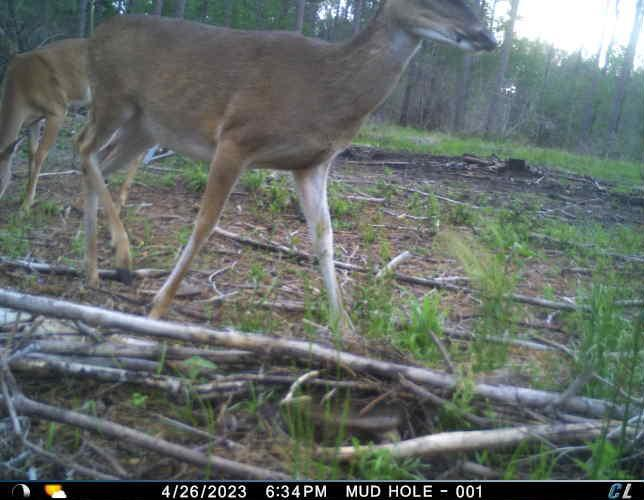Deer: (72, 2, 499, 331), (0, 27, 106, 228)
